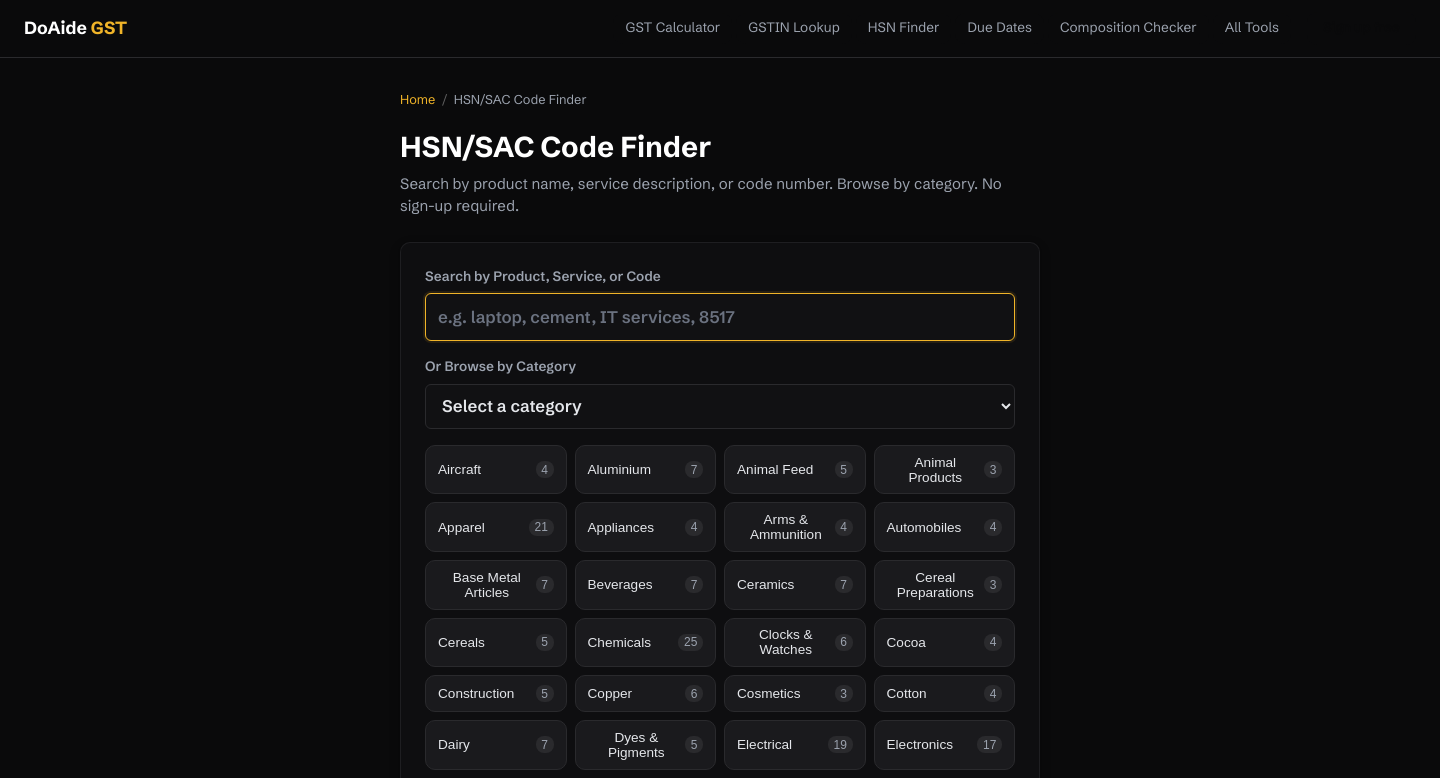
HsnSacFinderPage › searches by product name
Type "cement" into the field with placeholder "e.g. laptop, cement, IT services, 8517" at x=720, y=317, box [425,293,1015,341]
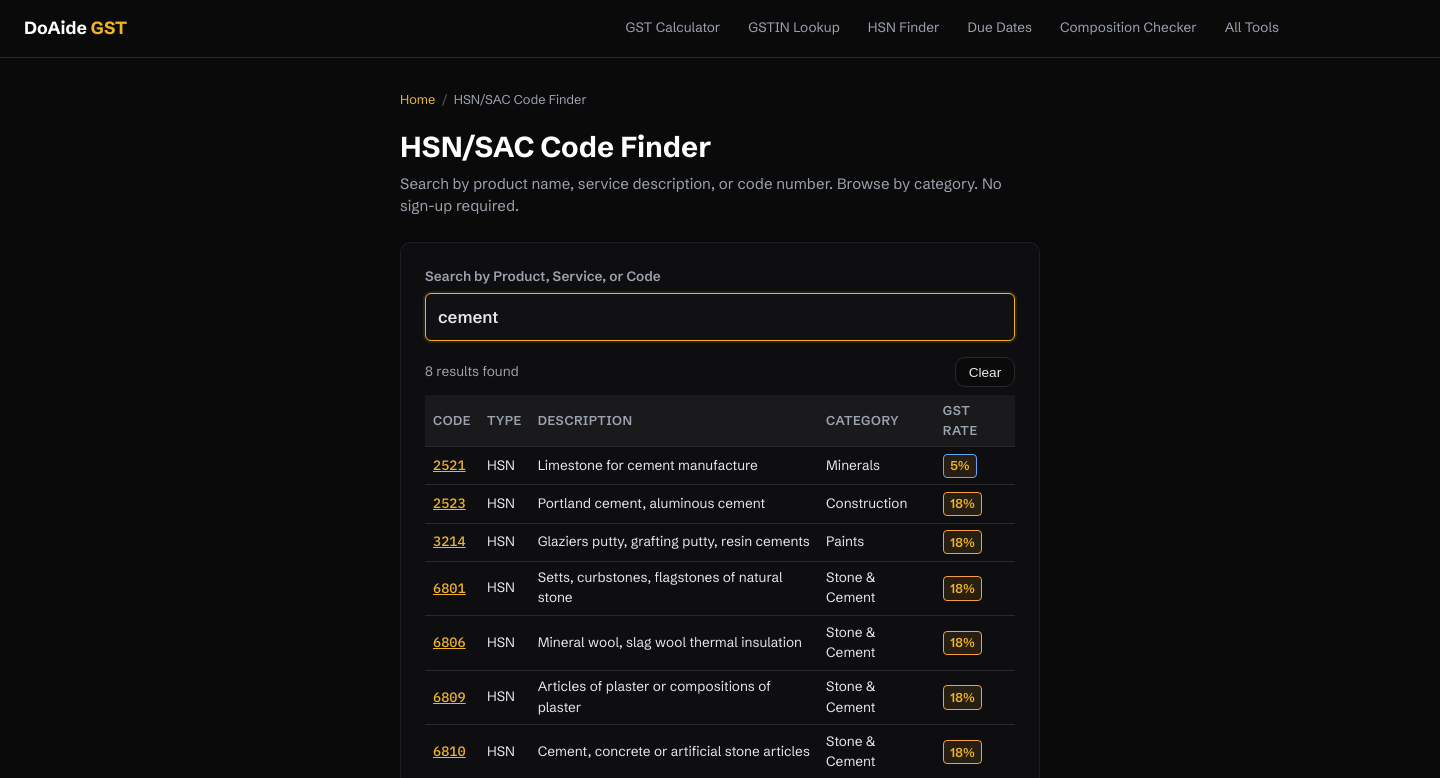
Expected: the link "2523" is shown, [433,494,466,512]
